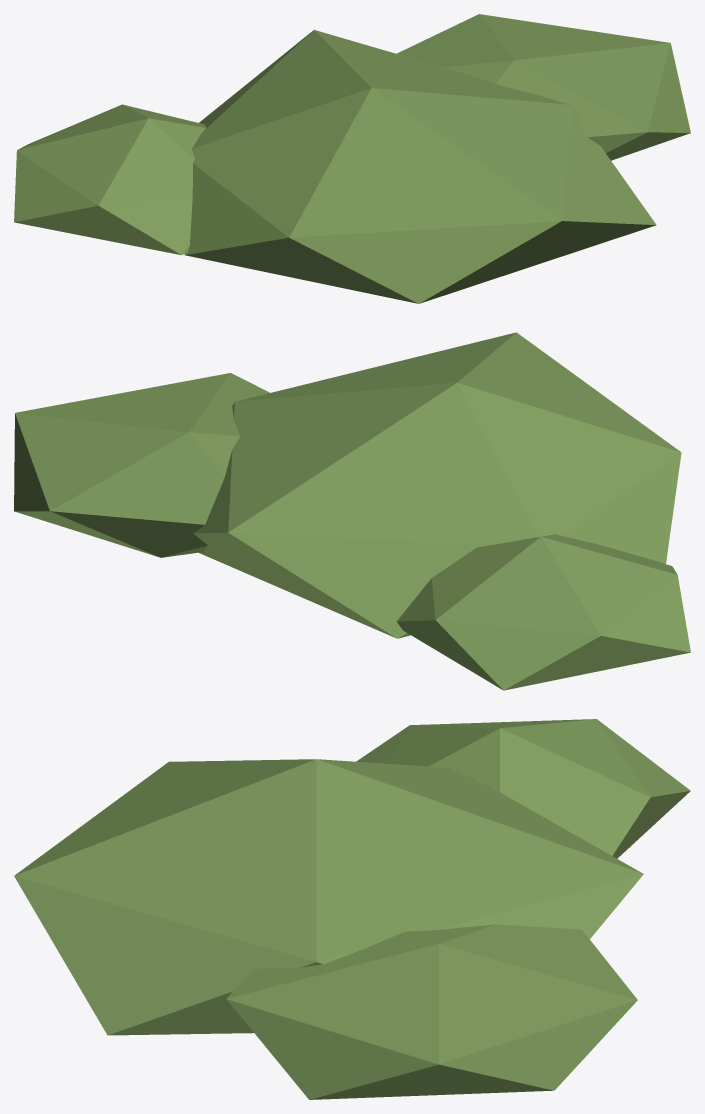
File: saule_nain.glb
3 renders of one model, top to bottom at view 1: azimuth 30°, elevation 25°; view 2: azimuth 150°, elevation 25°; view 3: azimuth 270°, elevation 25°, orthographic. The views are drawn at different scales.
Visible parts, largest first — view 1: saule_nain; view 2: saule_nain; view 3: saule_nain.
Part boxes in pixels (box(x1,y1,x2,y2)): saule_nain: box(14, 14, 690, 303); saule_nain: box(14, 332, 690, 690); saule_nain: box(14, 719, 690, 1099).
Bounding box in the file's own units: 1.48 × 0.3044 × 1.11.
Materials: 1 (1 with a texture image).
